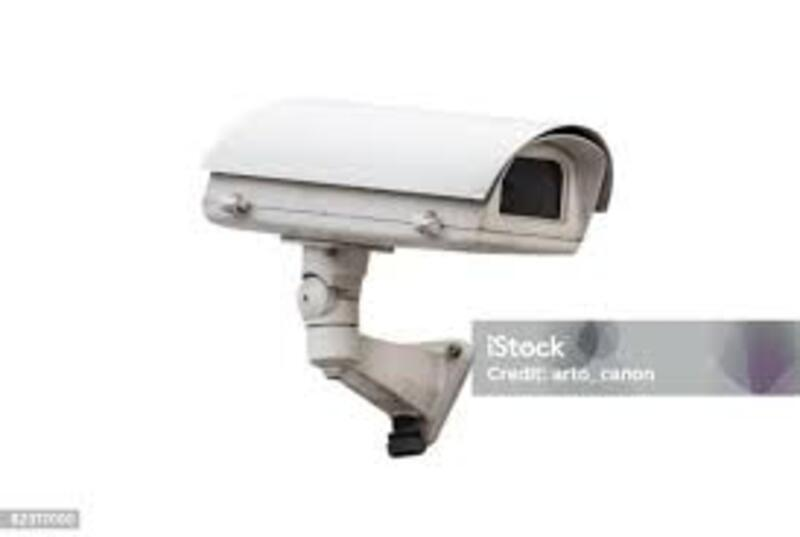box: (193, 93, 617, 267)
